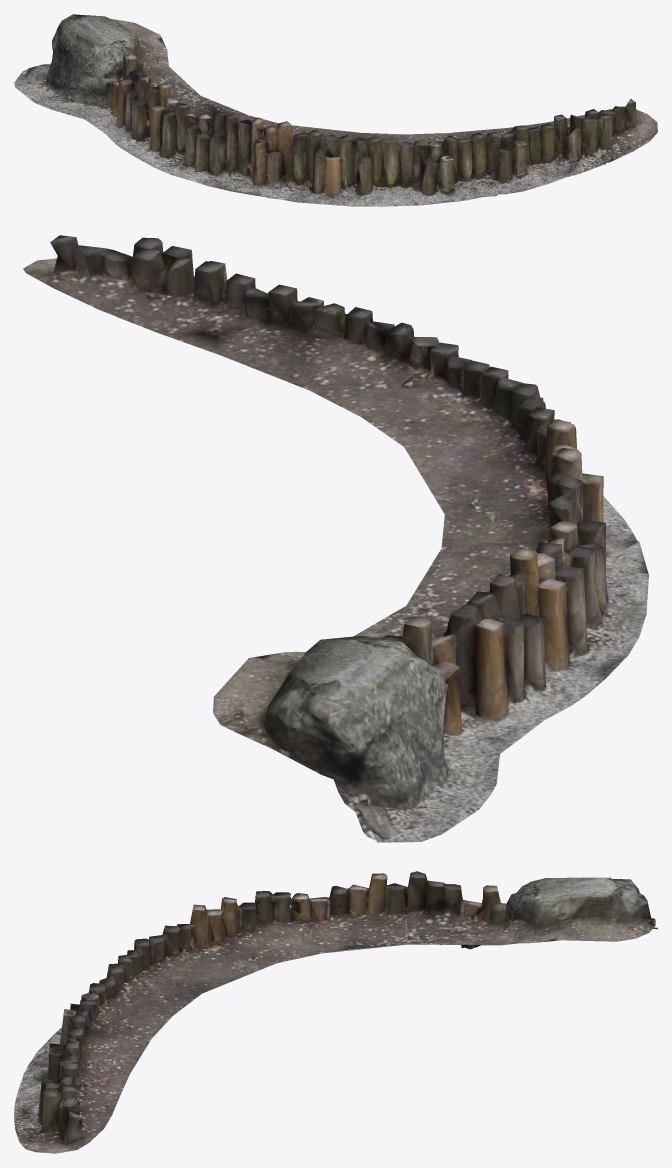
Rendered from woodscan.glb.
3 renders of one model, top to bottom at view 1: azimuth 30°, elevation 25°; view 2: azimuth 150°, elevation 25°; view 3: azimuth 270°, elevation 25°, orthographic. The views are drawn at different scales.
Visible parts, largest first — view 1: Object_2; view 2: Object_2; view 3: Object_2.
Boxes of the visible parts, left/top/right/bottom form: Object_2: left=14, top=14, right=657, bottom=206; Object_2: left=23, top=235, right=648, bottom=842; Object_2: left=14, top=871, right=657, bottom=1153.
Bounding box in the file's own units: 6.16 × 0.8522 × 6.29.
1 material, 1 textured.
